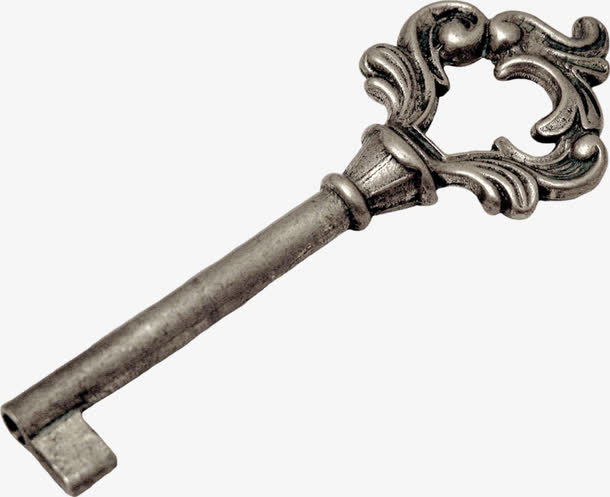key: (5, 5, 610, 496)
